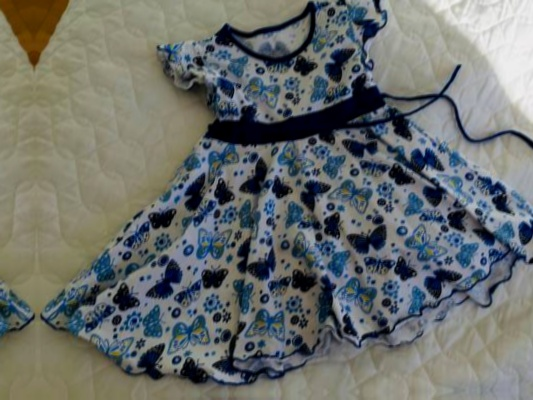Dress: (39, 1, 533, 385), (0, 8, 31, 393)
